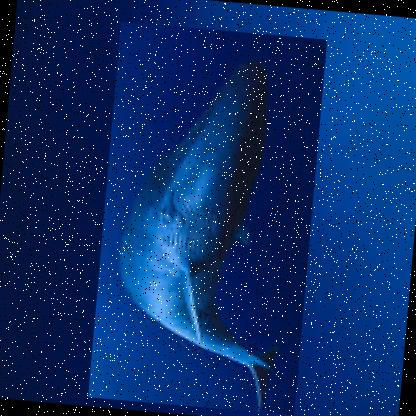blue_whale: (87, 21, 327, 416)
